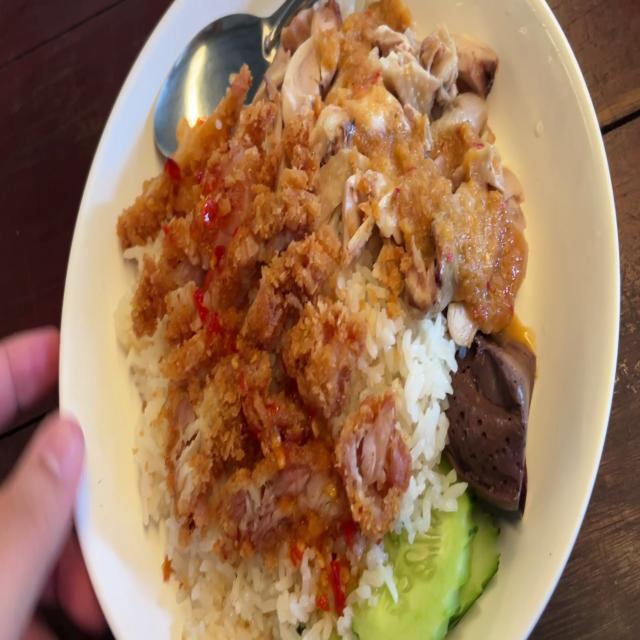boiled_chicken: (305, 3, 509, 292)
boiled_chicken_blood_jelly: (455, 335, 530, 519)
chicken_rice: (122, 0, 537, 640)
cucumber: (363, 475, 498, 640)
fried_chicken: (122, 103, 373, 530)
